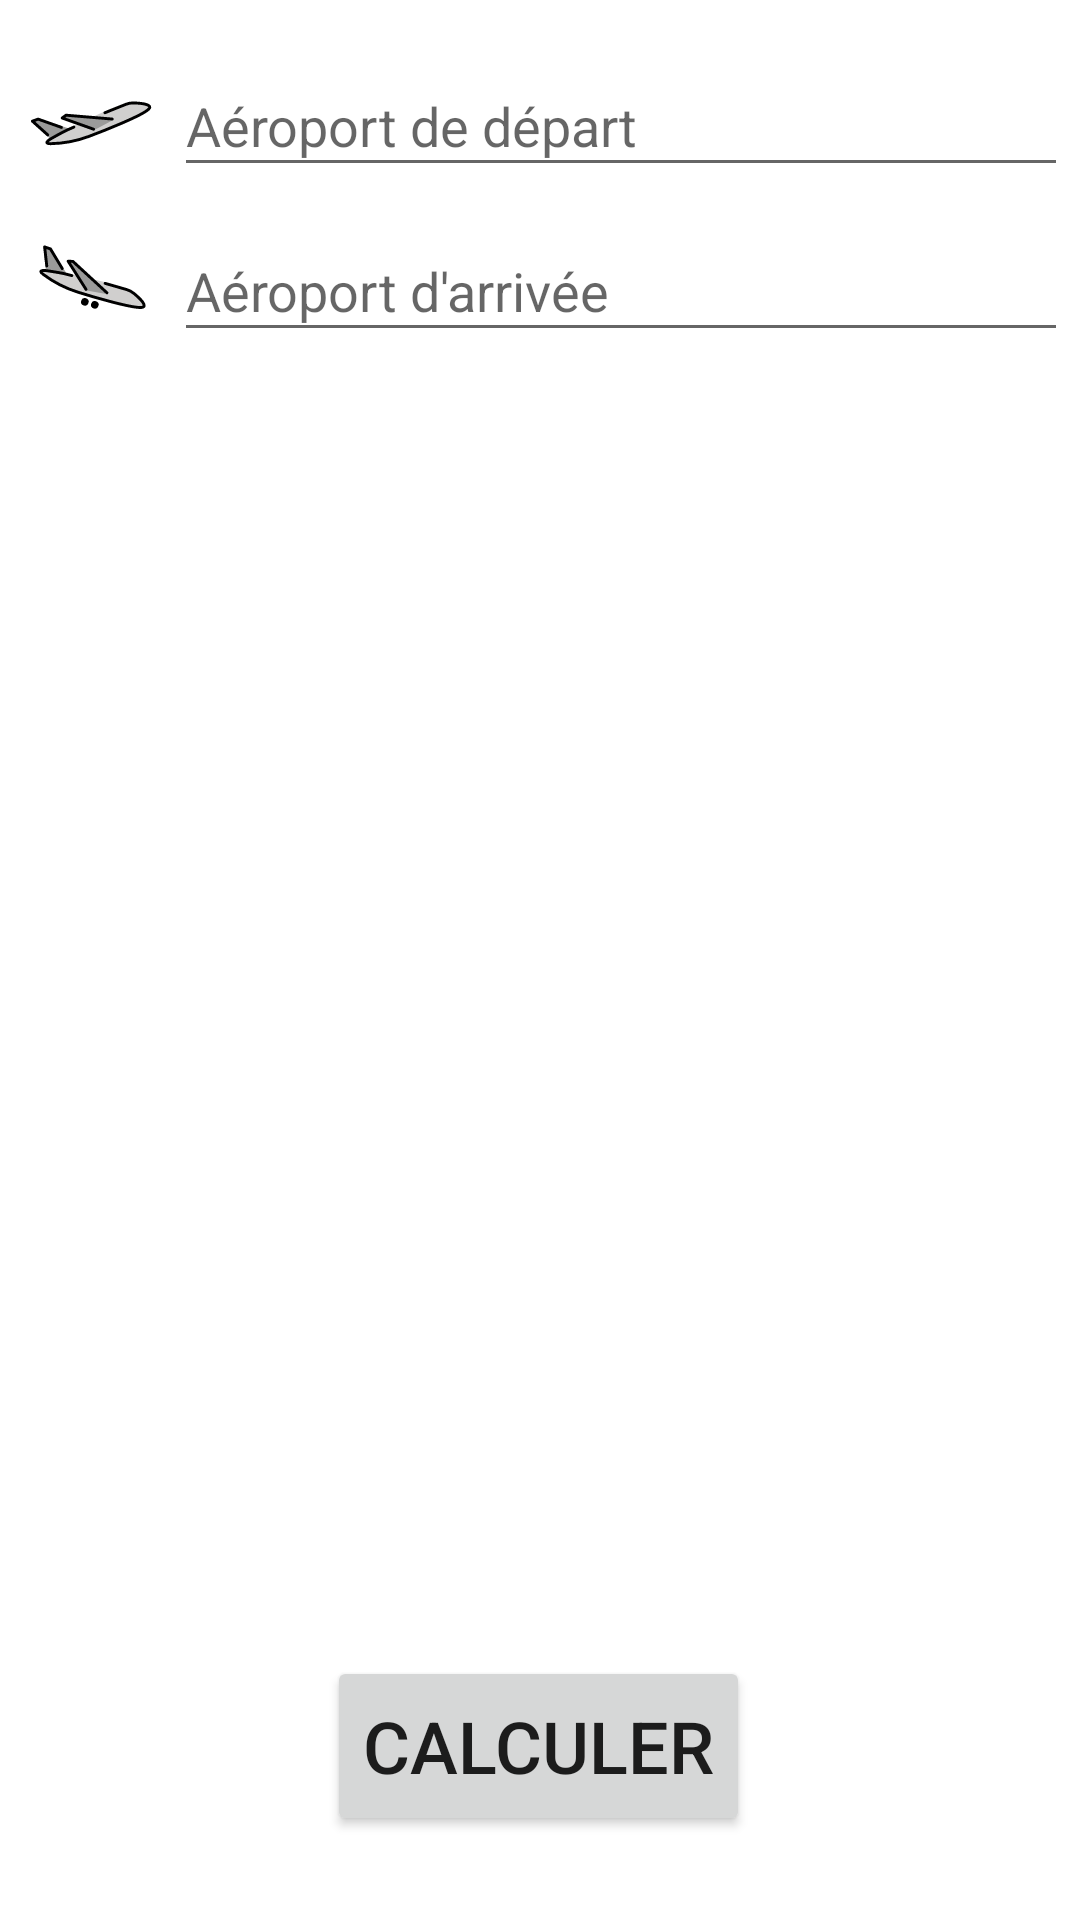

Named icons in this screenshot (1080 × 1920) and their centers, (x,y):
plane land: (92,277)
plane take off: (91,123)
